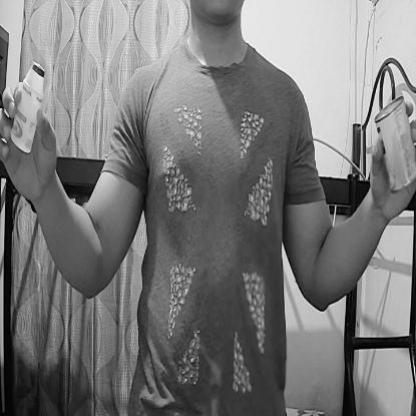Can: (376, 97, 416, 191)
Others: (12, 63, 48, 154)
